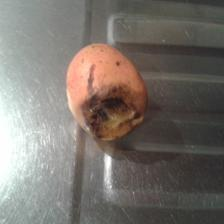Mango Rotten: (64, 39, 151, 141)
